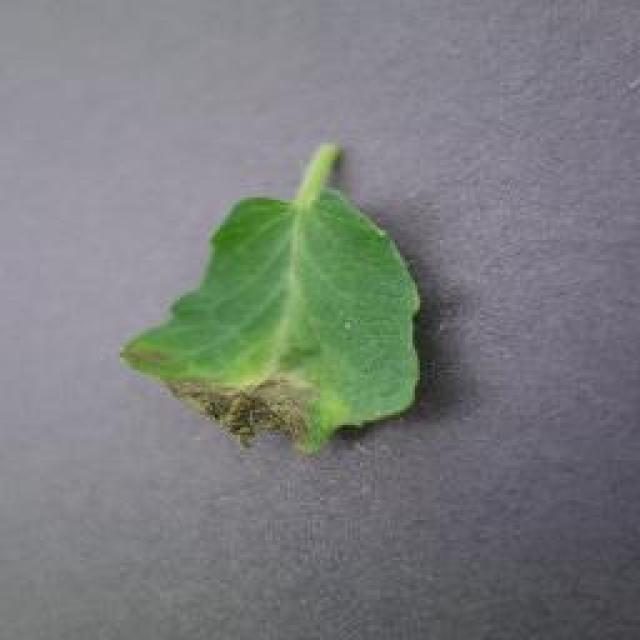Tomato Late Blight: (188, 370, 338, 448)
